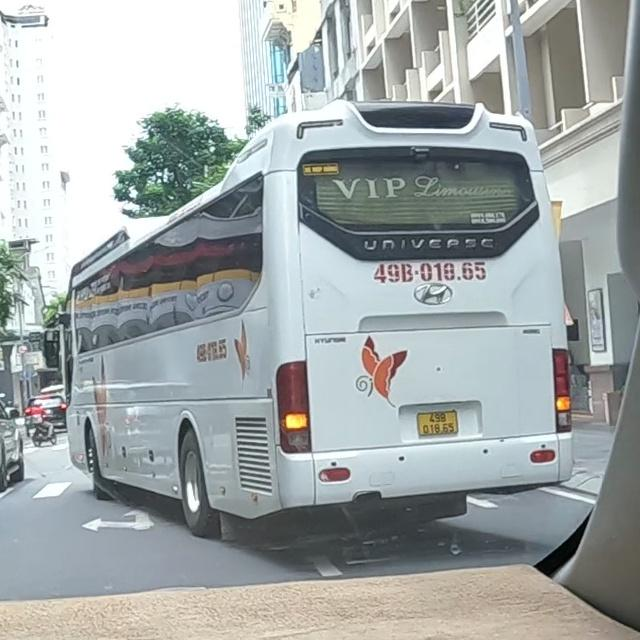license-plate: (417, 410, 459, 437)
